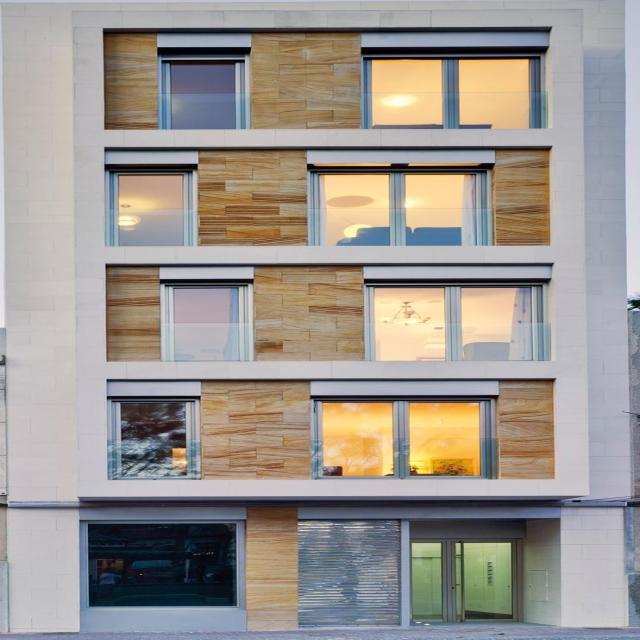door: (406, 539, 526, 623)
wall: (2, 1, 631, 633)
windows: (88, 521, 244, 608), (322, 398, 484, 478), (314, 164, 473, 245), (368, 57, 538, 129), (368, 288, 536, 360), (108, 401, 202, 479), (165, 283, 256, 360), (114, 172, 194, 246), (162, 60, 245, 129)
